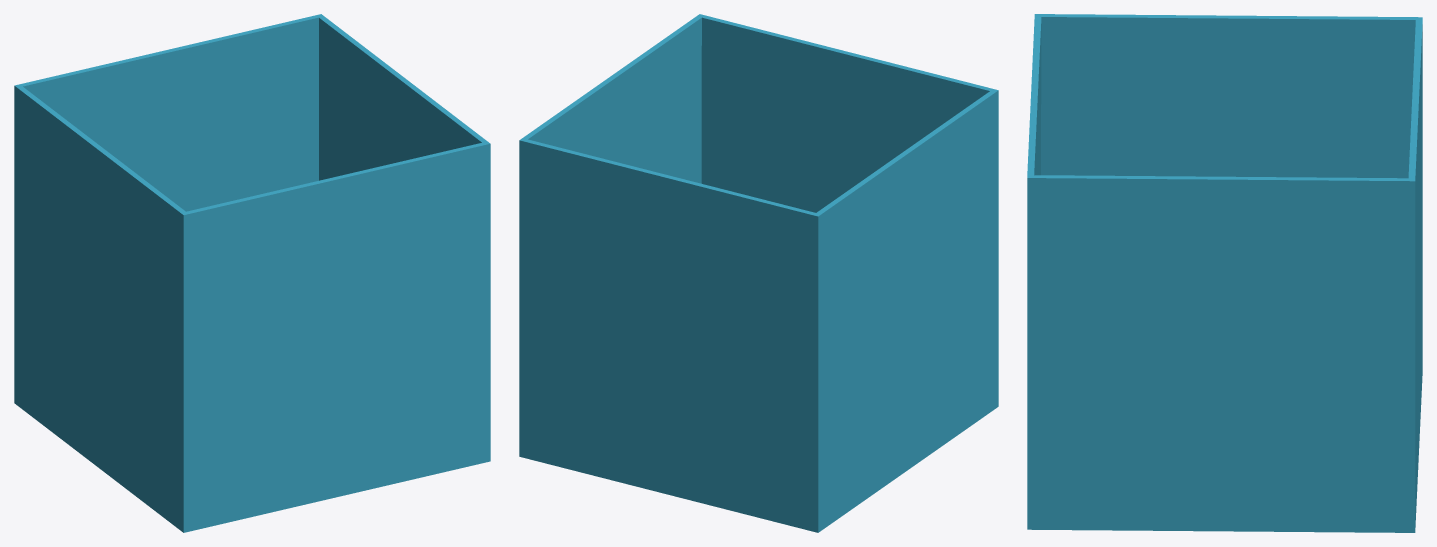
Rendered from bin_box.dae.
3 views of the same model, side by side, from view 1: azimuth 30°, elevation 25°; view 2: azimuth 150°, elevation 25°; view 3: azimuth 270°, elevation 25° (orthographic). The views are drawn at different scales.
Parts seen in each view (by area): view 1: BlueToyTrashbin_mesh; view 2: BlueToyTrashbin_mesh; view 3: BlueToyTrashbin_mesh.
Boxes of the visible parts, x1,y1,x2,y2 form: BlueToyTrashbin_mesh: (14,14,490,532); BlueToyTrashbin_mesh: (519,14,998,532); BlueToyTrashbin_mesh: (1027,14,1422,532).
Bounding box in the file's own units: 0.2824 × 0.2824 × 0.277.
